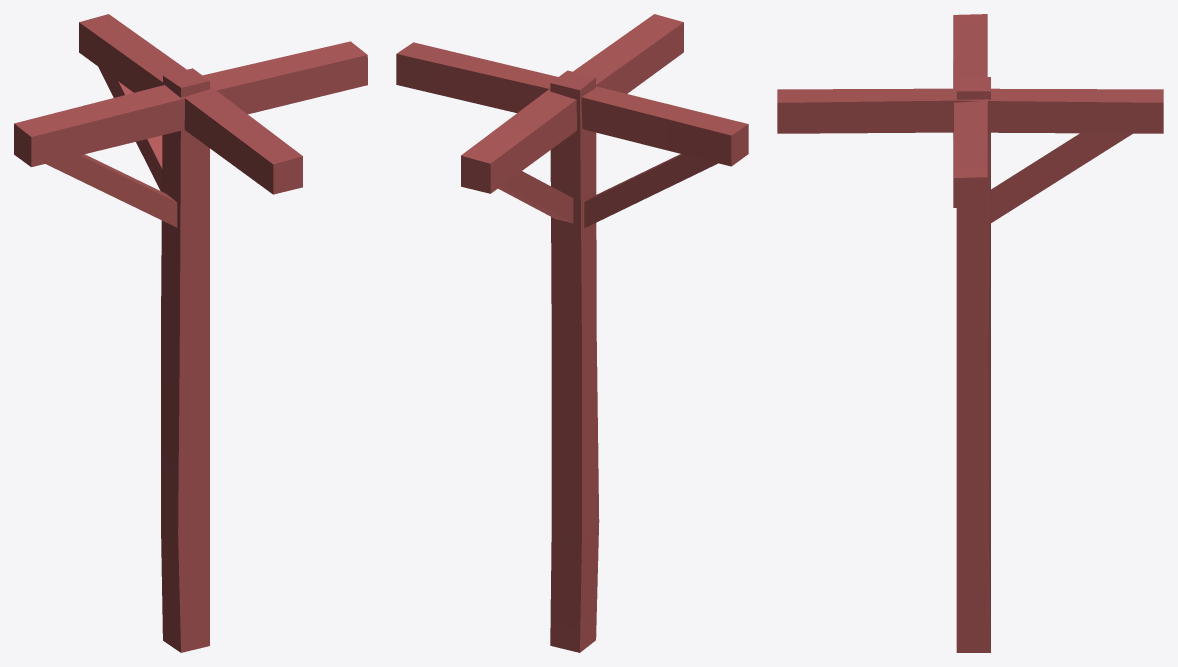
The model's file is Small_Beam_Structure_01_Lod0.fbx.
The picture shows the model from 3 angles, left to right: view 1: azimuth 30°, elevation 25°; view 2: azimuth 150°, elevation 25°; view 3: azimuth 270°, elevation 25°; orthographic projection.
Visible parts, largest first — view 1: Small_Beam_Structure_01_Lod0; view 2: Small_Beam_Structure_01_Lod0; view 3: Small_Beam_Structure_01_Lod0.
Part boxes in pixels (x1,y1,x2,y2): Small_Beam_Structure_01_Lod0: (14, 14, 367, 652); Small_Beam_Structure_01_Lod0: (396, 14, 748, 652); Small_Beam_Structure_01_Lod0: (777, 14, 1163, 652).
Size of the model in its own units: 93.5 by 150 by 93.5.
